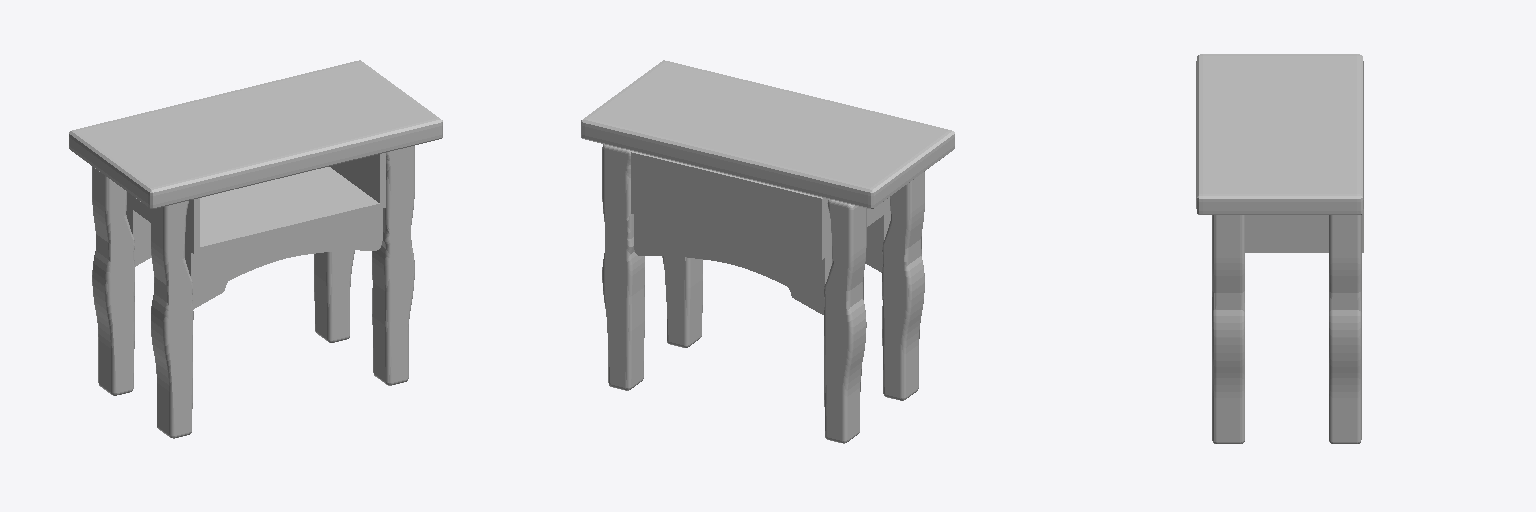
The model's file is SetA_Table_Style_01.obj.
3 renders of one model, left to right at view 1: azimuth 30°, elevation 25°; view 2: azimuth 150°, elevation 25°; view 3: azimuth 270°, elevation 25°, orthographic.
Parts seen in each view (by area): view 1: SetA_Table_Style_01; view 2: SetA_Table_Style_01; view 3: SetA_Table_Style_01.
Boxes of the visible parts, <box> form: SetA_Table_Style_01: <box>69,60,442,438</box>; SetA_Table_Style_01: <box>581,60,954,443</box>; SetA_Table_Style_01: <box>1196,54,1363,443</box>.
Bounding box in the file's own units: 1.06 × 0.9064 × 0.523.